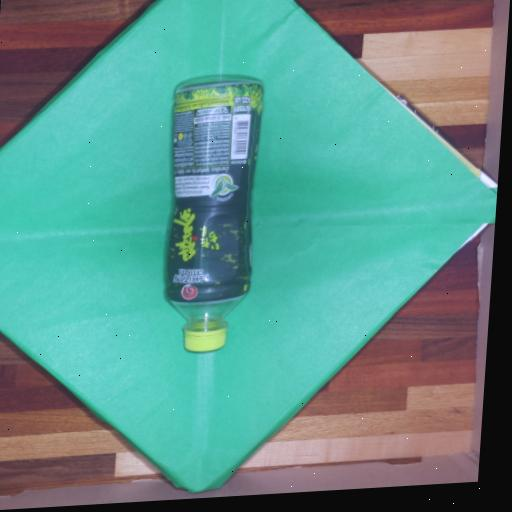bottle: (166, 81, 262, 352)
